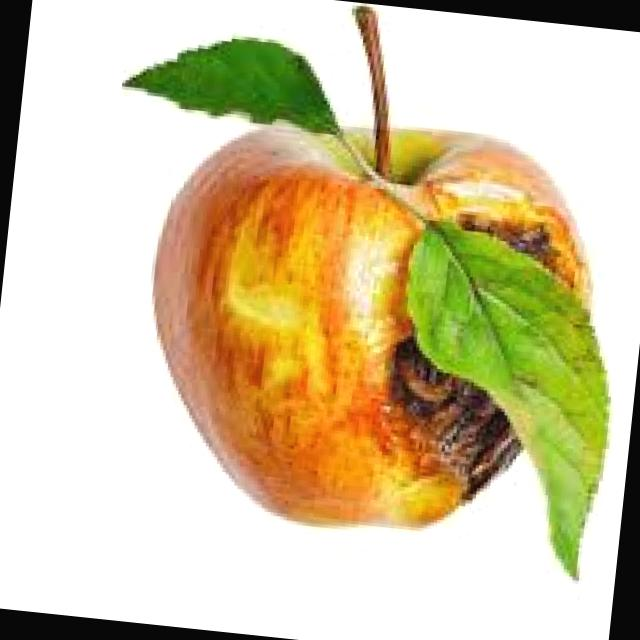Rotten Apple: (127, 101, 608, 550)
